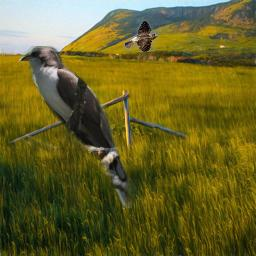Cuckoo: (19, 46, 142, 209)
Swallow: (124, 20, 159, 52)
